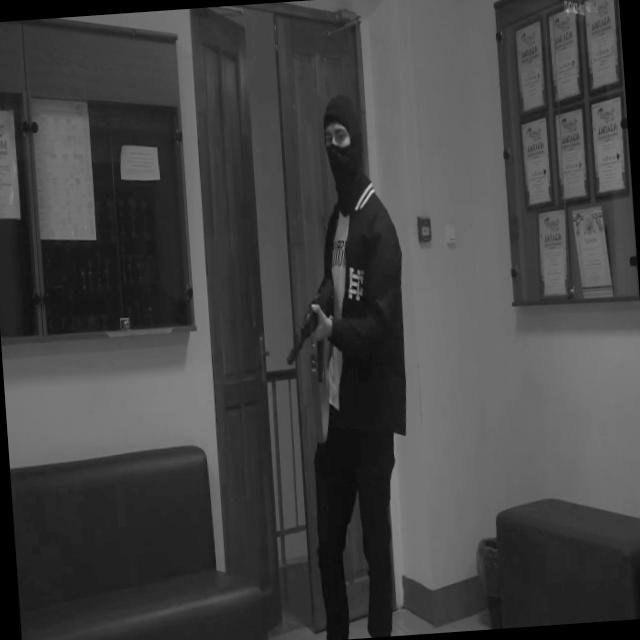gun: (280, 273, 341, 375)
person with a gun: (266, 89, 428, 640)
